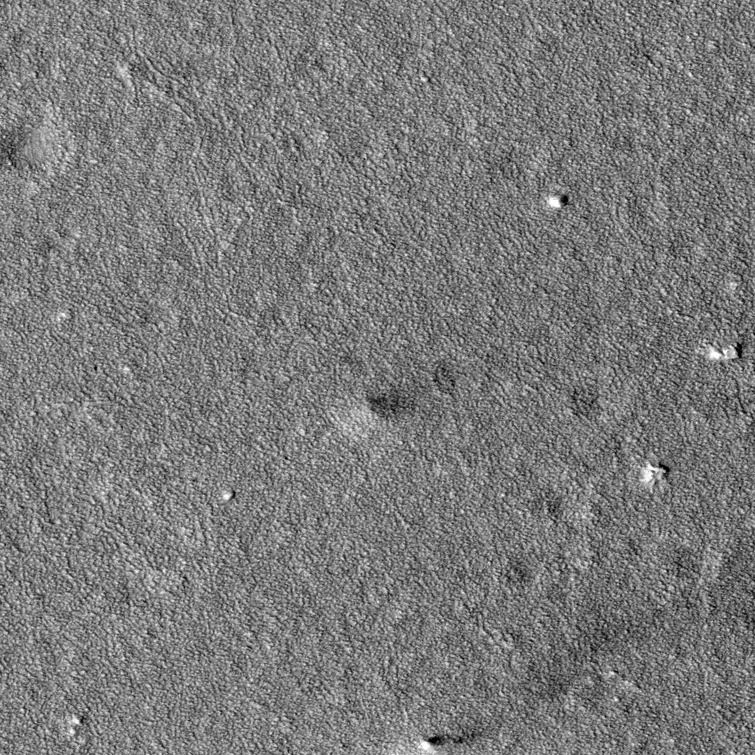dust_devil: (338, 386, 420, 441), (416, 730, 470, 755)
